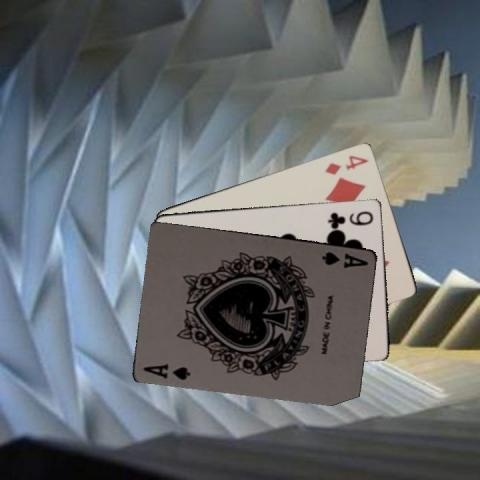4d: (322, 152, 370, 176)
9c: (324, 207, 374, 226)
As: (319, 248, 370, 269), (140, 361, 192, 381)
